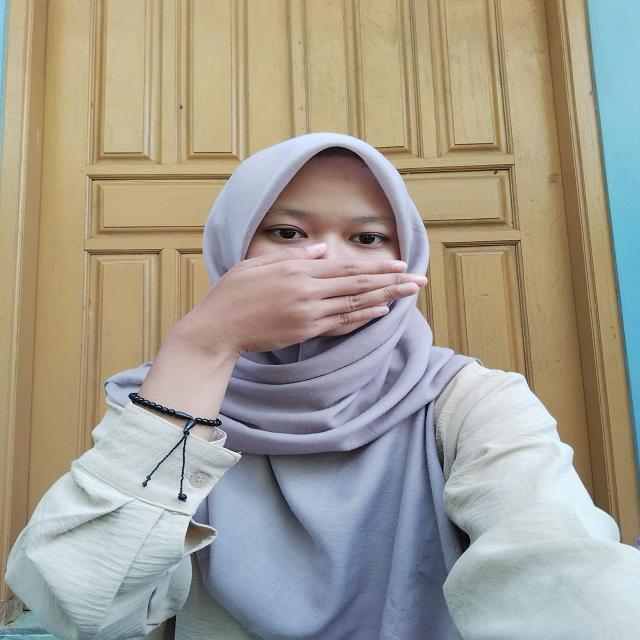buruk: (172, 230, 432, 356)
